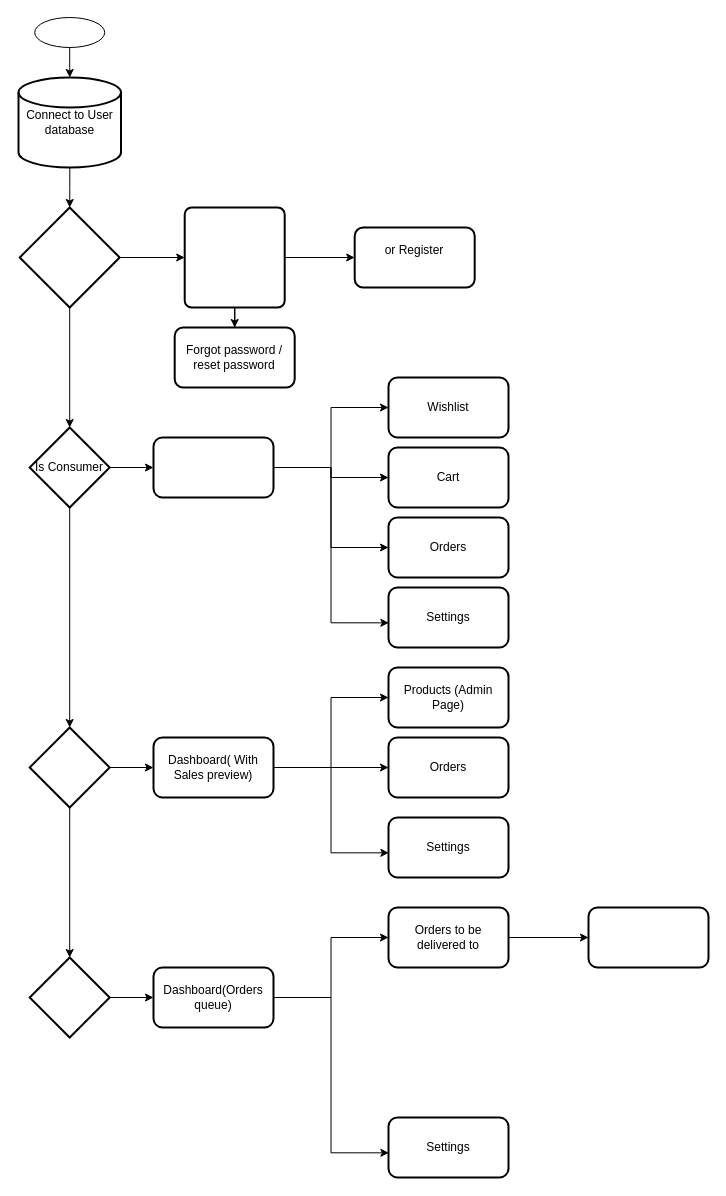
Some shapes in this 726 by 1196 pixel diagram are drawn without their labels. The shapes that lost their labels are listed below. From the top down, each one's centre as x and y in pixels, then its label:
At pixel 69 32: "Start".
At pixel 69 257: "is User Logged in".
At pixel 234 257: "Send to Login".
At pixel 213 467: "Dashboard".
At pixel 69 767: "Is Farmer".
At pixel 648 937: "Map Data and Navigation using Google maps API".
At pixel 69 997: "Is Delivery Agent".
